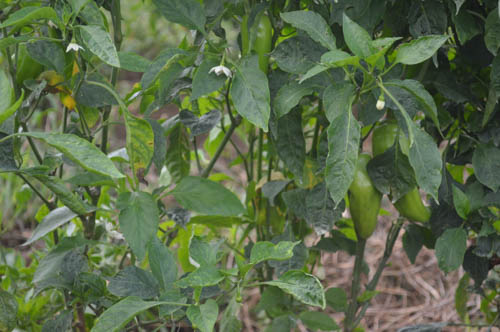ChiliPepper: (373, 123, 432, 224), (353, 156, 379, 245), (244, 13, 275, 75)
